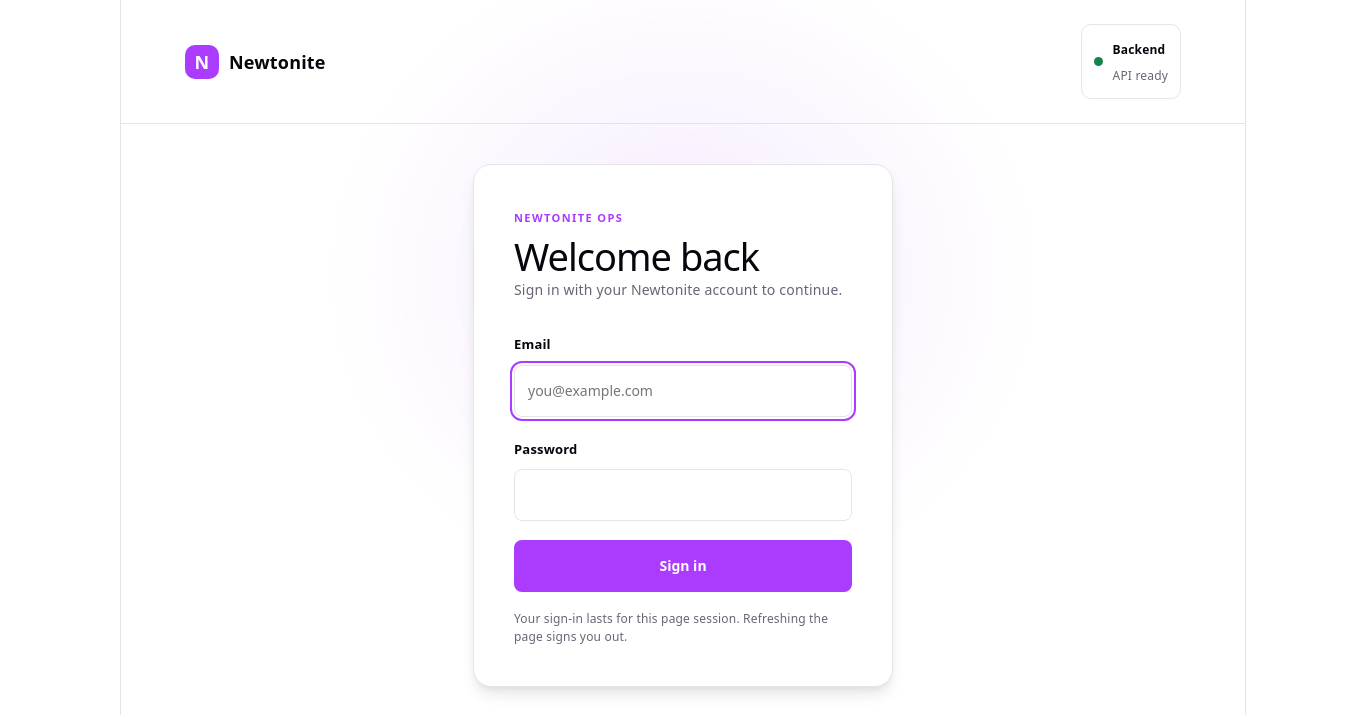
work-item list and creation › creates in the selected team, sends an idempotency key, then refreshes list and dashboard
The width and height of the screenshot is (1366, 715).
Type "morgan@example.test" into the field labelled "Email" at (683, 391), box 514,365 -> 852,417
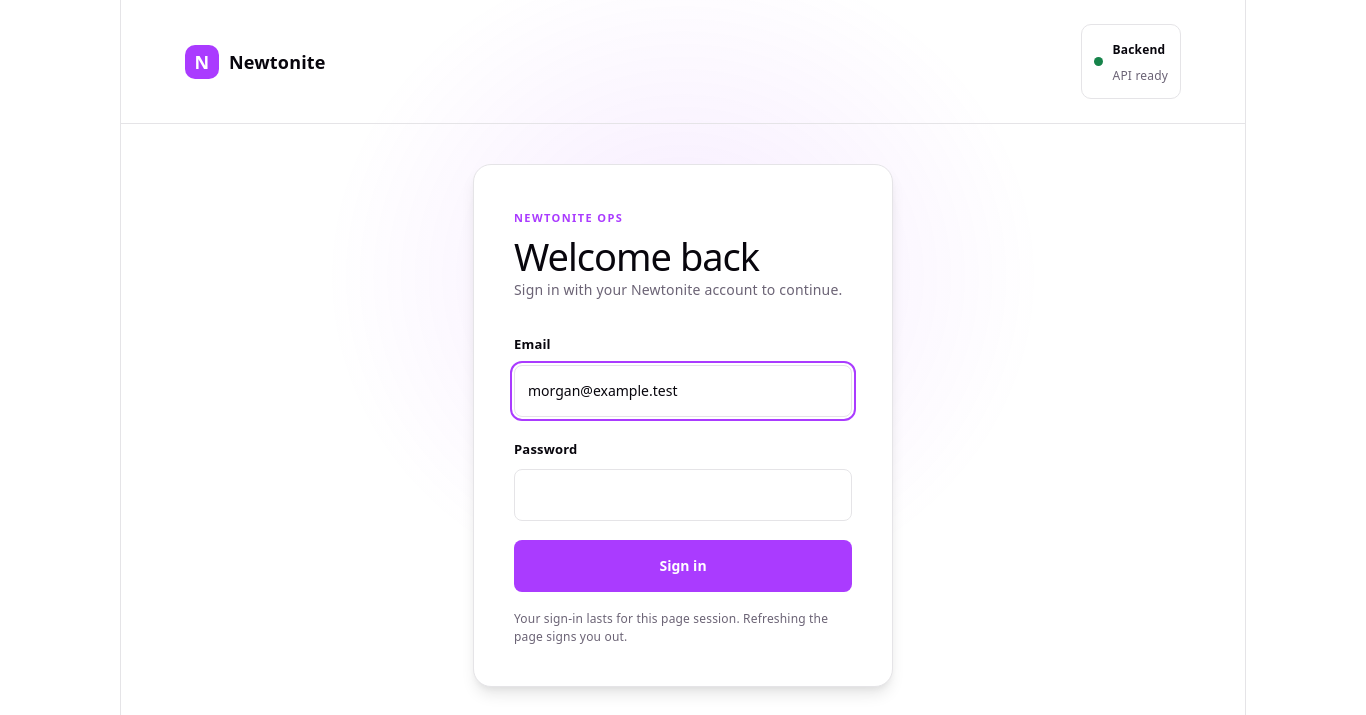
Type "safe-test-password" into the password field labelled "Password" at (683, 495), box 514,469 -> 852,521
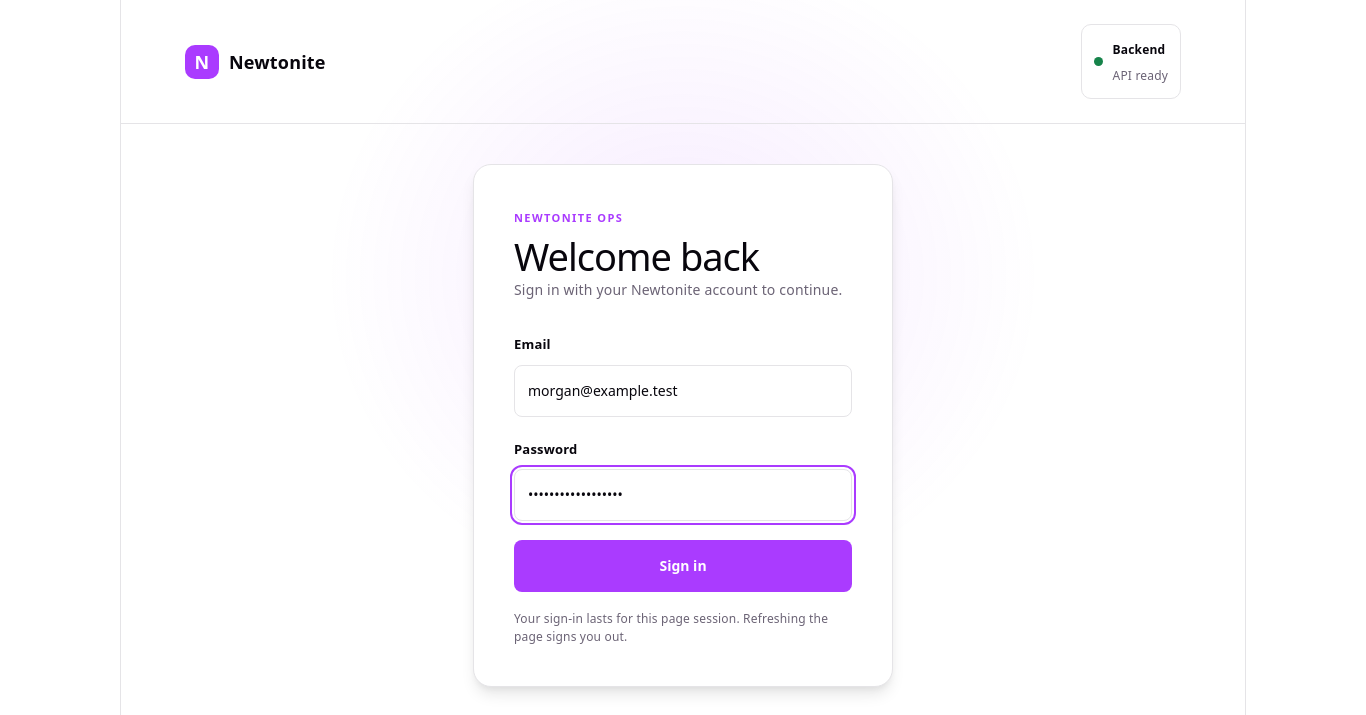
Click the button "Sign in" at (683, 566), box 514,540 -> 852,592
(page scrolled)
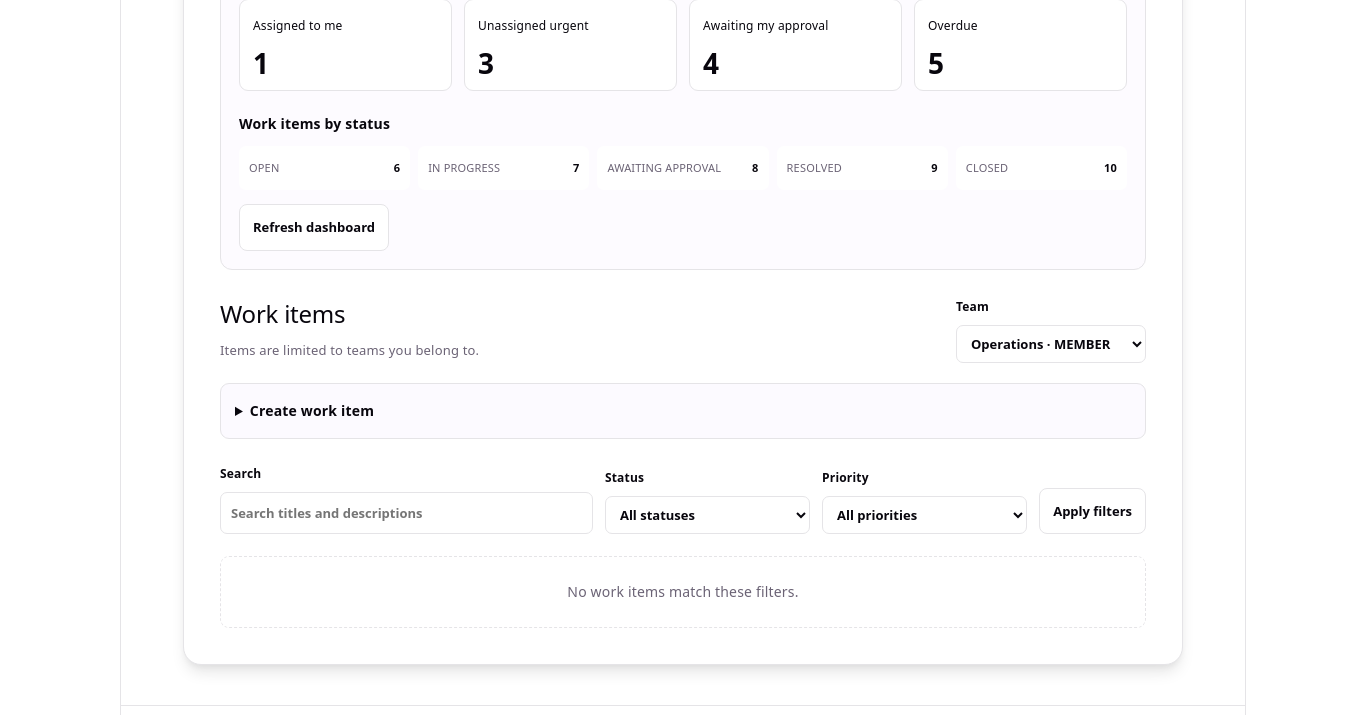
Now the text "No work items match these filters." is shown, box 220,556 -> 1146,628
Click the heading "Create work item" at (312, 410), box 250,401 -> 374,420
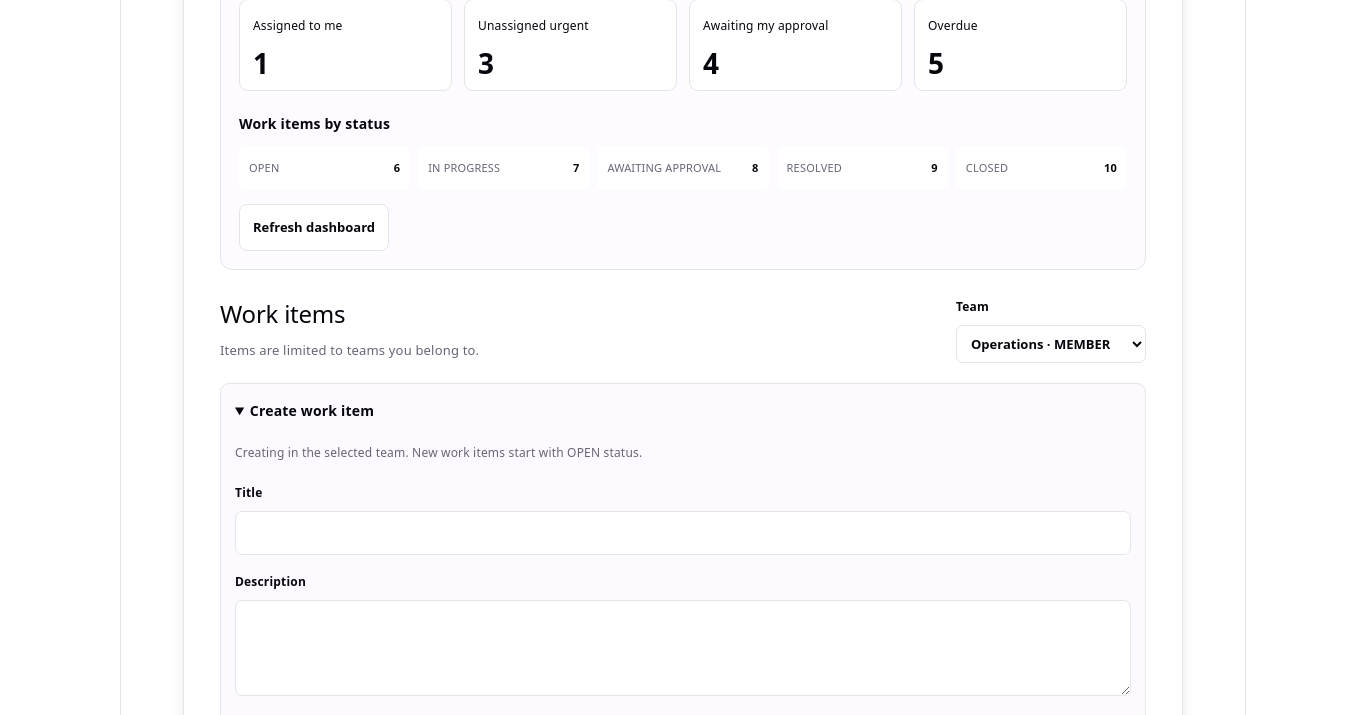
Type "Created from UI" into the field named "New work-item title" at (683, 533), box 235,511 -> 1131,555
(page scrolled)
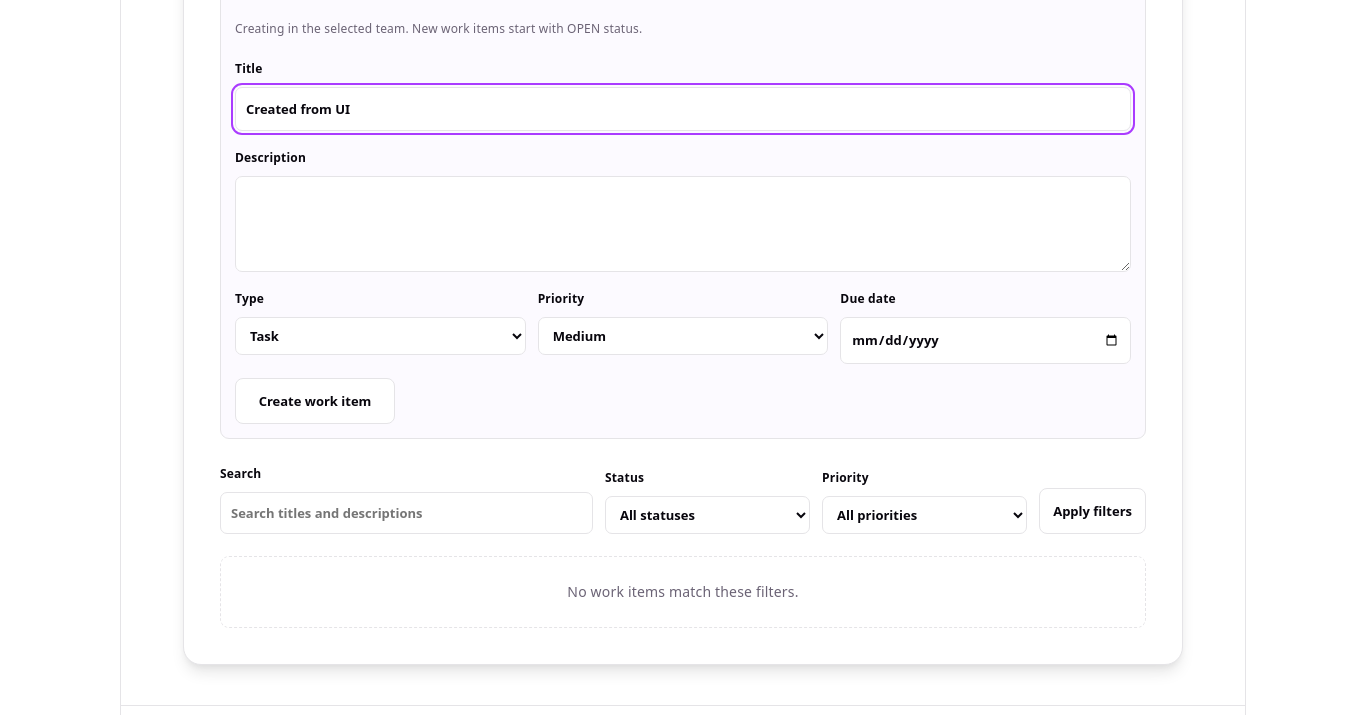
Click the button "Create work item" at (315, 401), box 235,378 -> 395,424
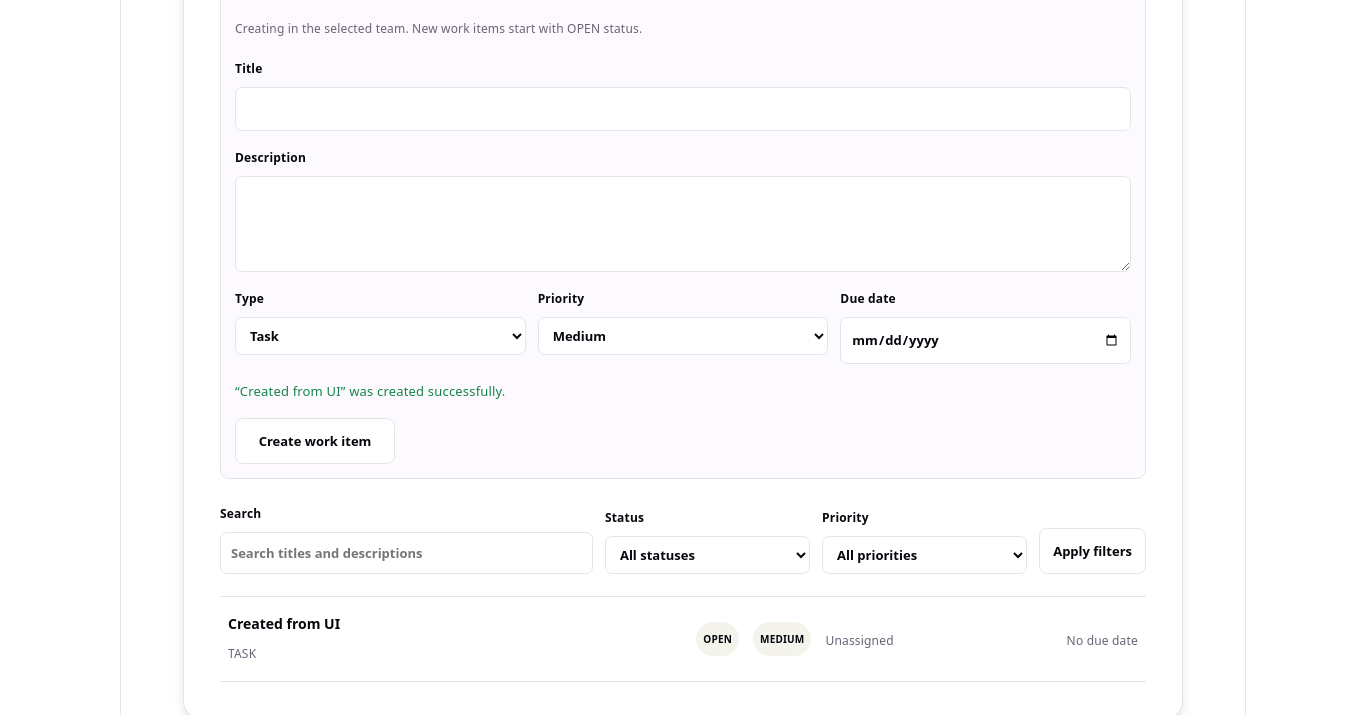
Now the text "“Created from UI” was created successfully." is shown, box 235,382 -> 506,400
Now the button "Created from UI" is shown, box 228,611 -> 340,637
